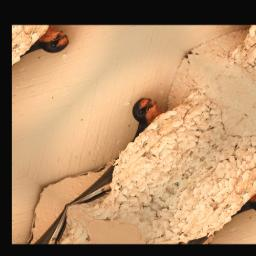Swallow: (47, 91, 186, 221)
